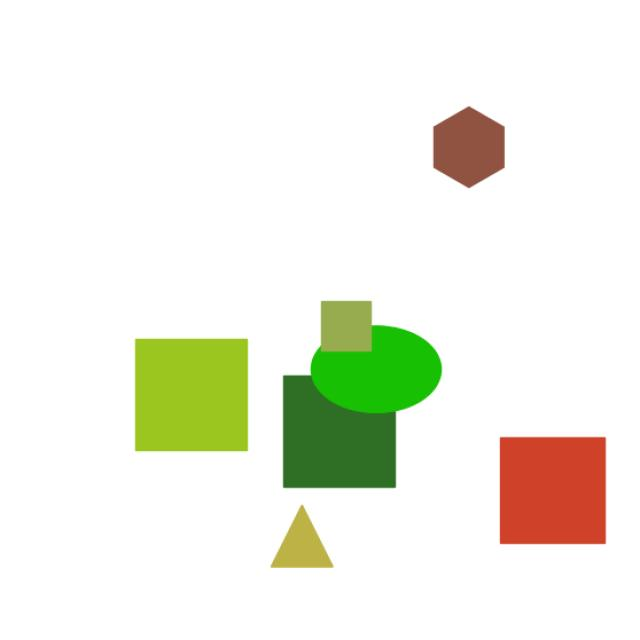Hexagon: (407, 92, 521, 215)
Oval: (296, 326, 452, 422)
Triangle: (254, 502, 358, 594)
square: (114, 327, 262, 462), (482, 425, 628, 557), (270, 366, 407, 496), (308, 293, 384, 365)
